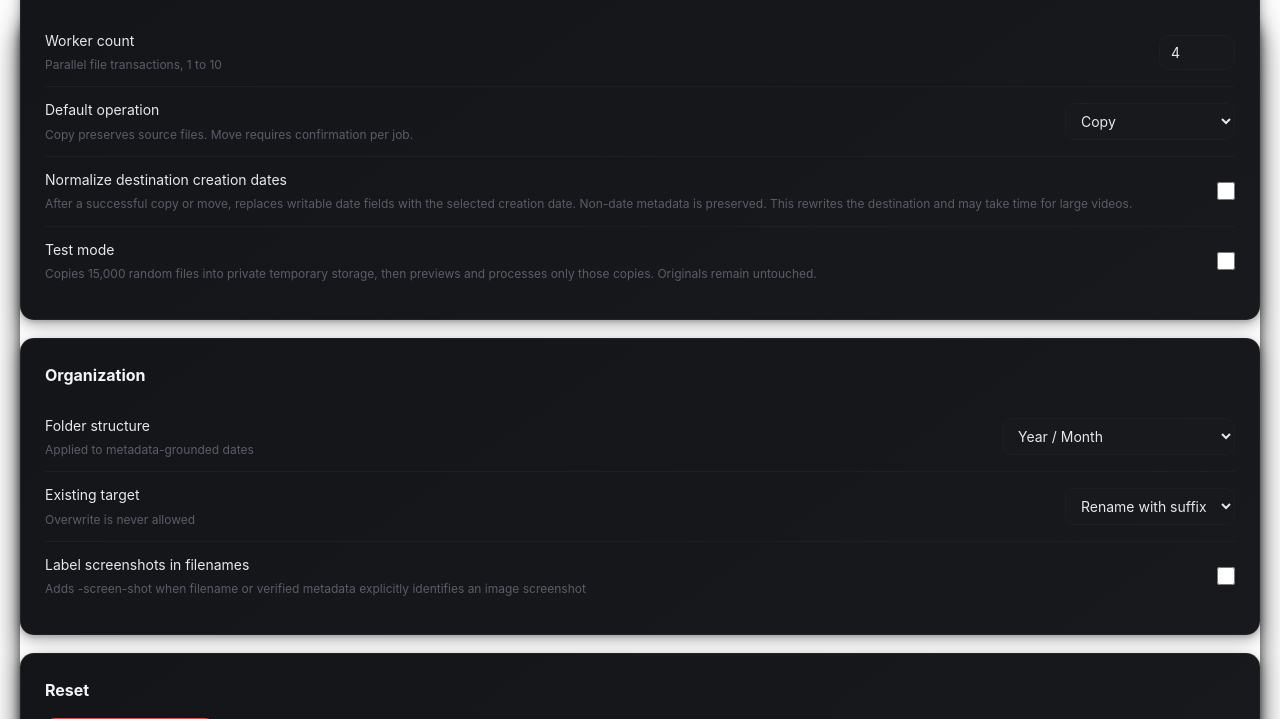
Test case: SettingsView › shows and persists the screenshot filename toggle
The width and height of the screenshot is (1280, 719).
(page scrolled)
Click the checkbox labelled "Label screenshots in filenames".
click(1226, 576)  # box [1217, 567, 1235, 585]
(page scrolled)
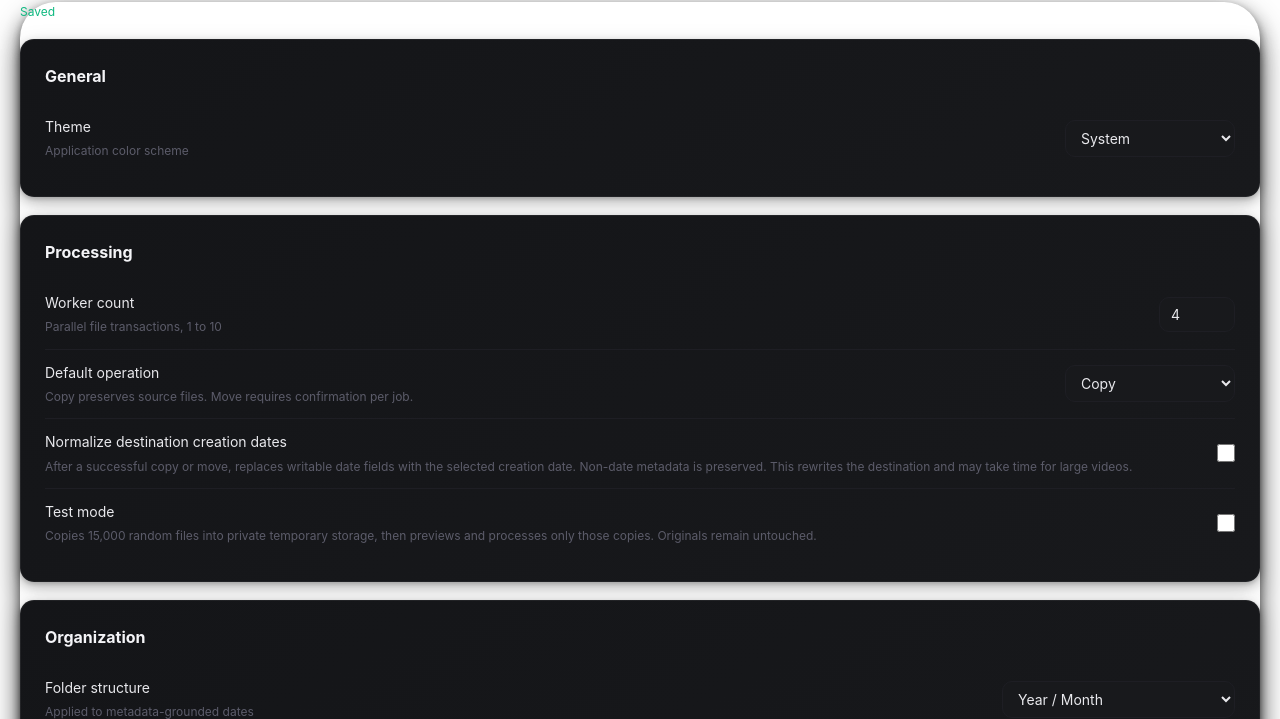
Now the text "Saved" is shown, box [20, 4, 55, 19]
